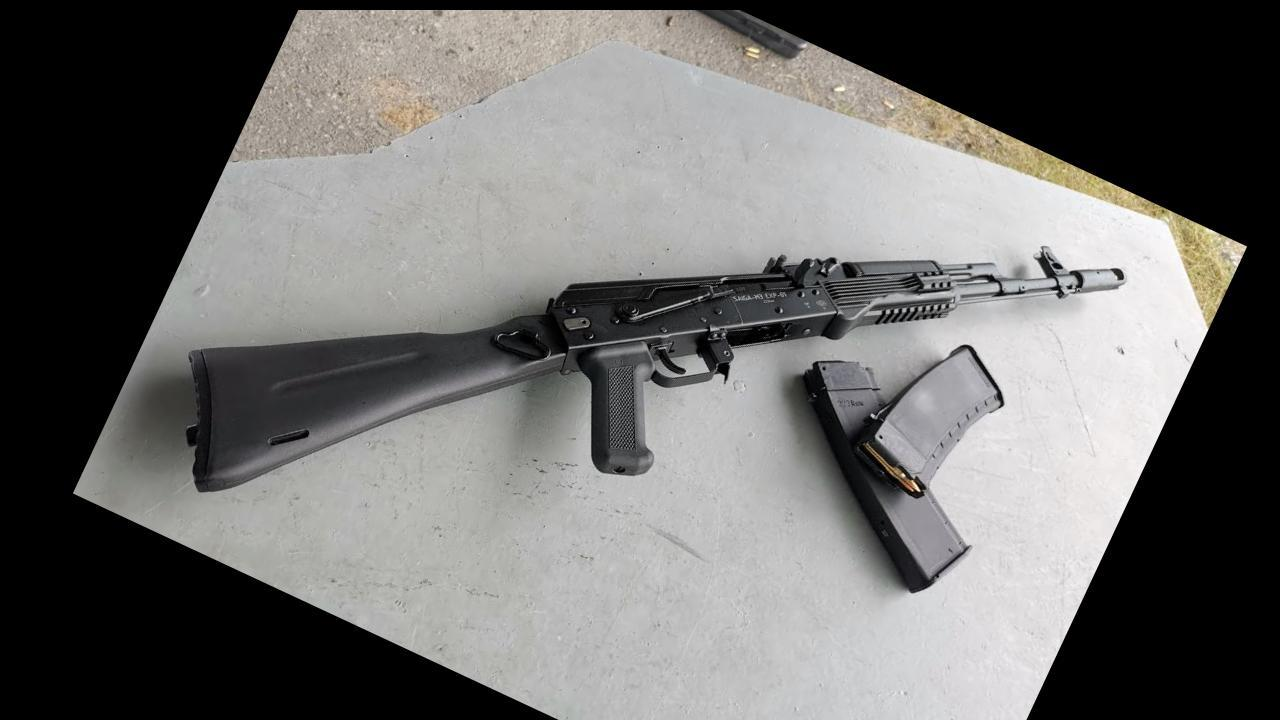larga: (185, 246, 1127, 494)
